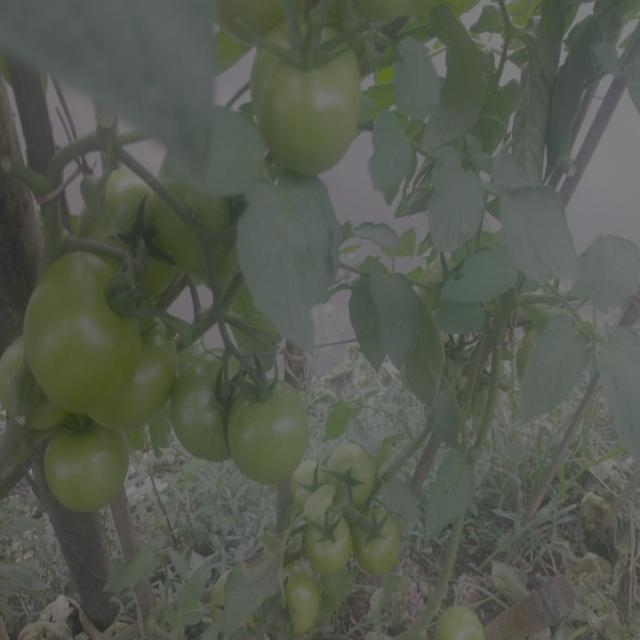tomato: (246, 17, 368, 174), (29, 248, 134, 406), (238, 367, 312, 477), (44, 420, 136, 508), (148, 166, 232, 260), (181, 343, 230, 465), (87, 156, 146, 227), (299, 501, 356, 570), (318, 439, 382, 499), (143, 309, 179, 407), (277, 570, 325, 634), (2, 328, 33, 424), (359, 508, 404, 570), (435, 604, 488, 640), (207, 568, 238, 612)
